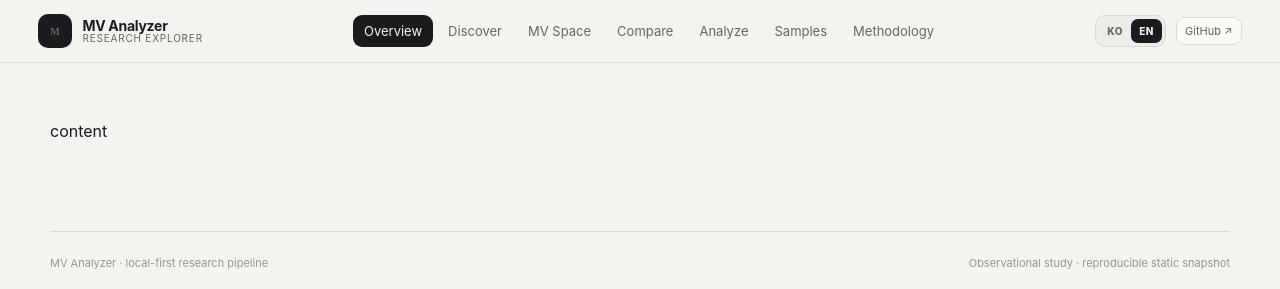
Test: language control switches global shell copy and persists selection
The image size is (1280, 289).
Check: the navigation bar named "Primary navigation" is shown, box [353, 15, 934, 47]
Check: the text "Observational study · reproducible static snapshot" is shown, box [969, 256, 1230, 270]
Click the button with aria-label "Korean": {"x": 1115, "y": 31} [1099, 19, 1131, 43]
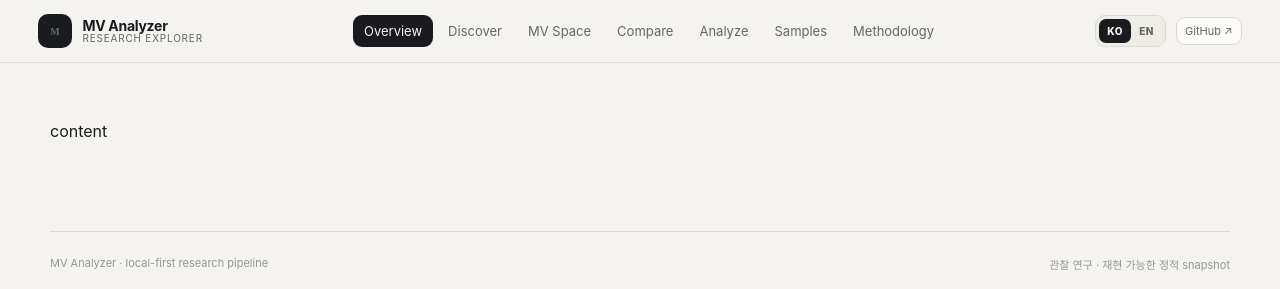
Check: the navigation bar named "주요 메뉴" is shown, box [353, 15, 934, 47]
Check: the text "관찰 연구 · 재현 가능한 정적 snapshot" is shown, box [1049, 256, 1230, 272]
